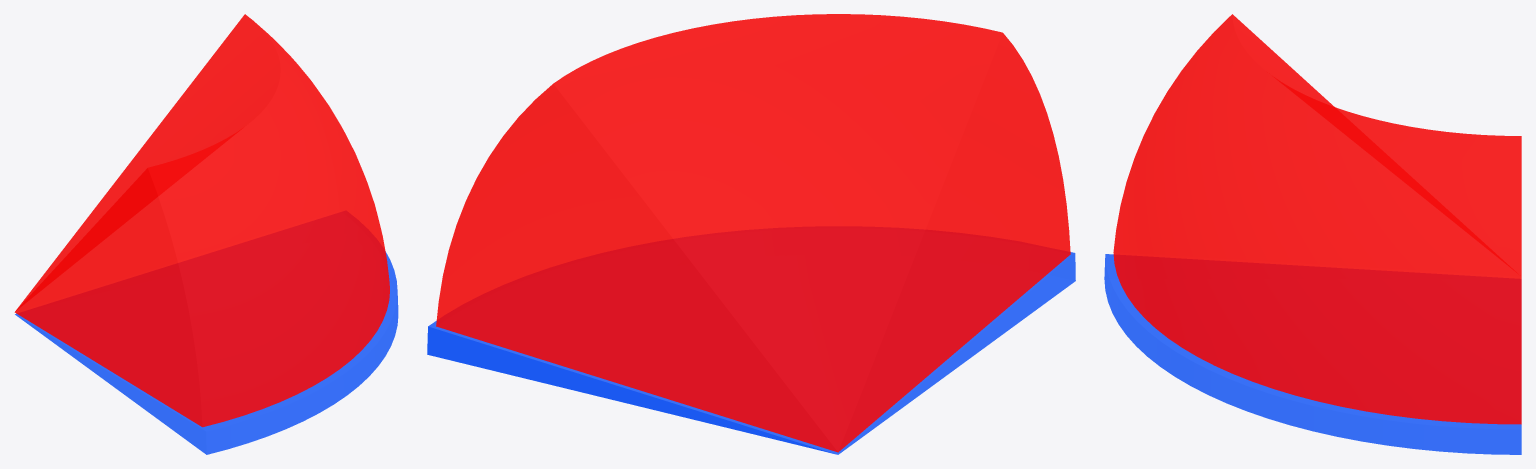
Rendered from VITIM_Radar_Obzor.fbx.
The picture shows the model from 3 angles, left to right: view 1: azimuth 30°, elevation 25°; view 2: azimuth 150°, elevation 25°; view 3: azimuth 270°, elevation 25°; orthographic projection. The views are drawn at different scales.
Parts seen in each view (by area): view 1: nablud, obzor; view 2: nablud, obzor, Beam; view 3: nablud, obzor.
Part boxes in pixels (left/top/right/bottom): nablud: left=14, top=14, right=389, bottom=427; obzor: left=15, top=251, right=398, bottom=454; nablud: left=436, top=14, right=1070, bottom=452; obzor: left=427, top=252, right=1075, bottom=454; Beam: left=427, top=327, right=829, bottom=452; nablud: left=1113, top=14, right=1521, bottom=424; obzor: left=1104, top=254, right=1521, bottom=454.
Size of the model in its own units: 31997 by 22449 by 32037.
